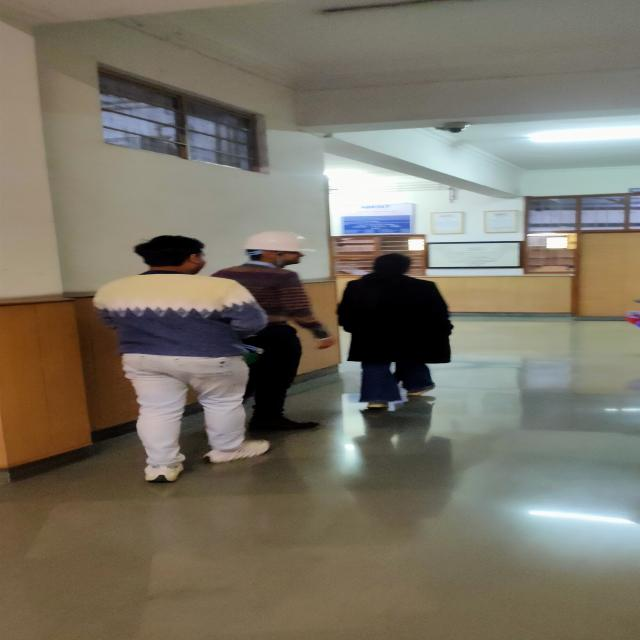no jacket: (211, 230, 334, 436)
unsafe: (94, 237, 272, 476), (333, 254, 454, 408)
